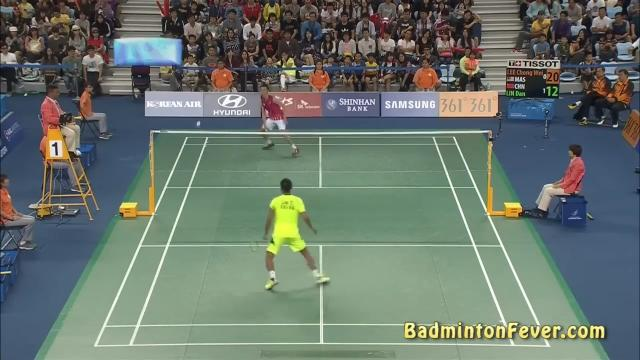Shuttlecock: (196, 120, 204, 128)
